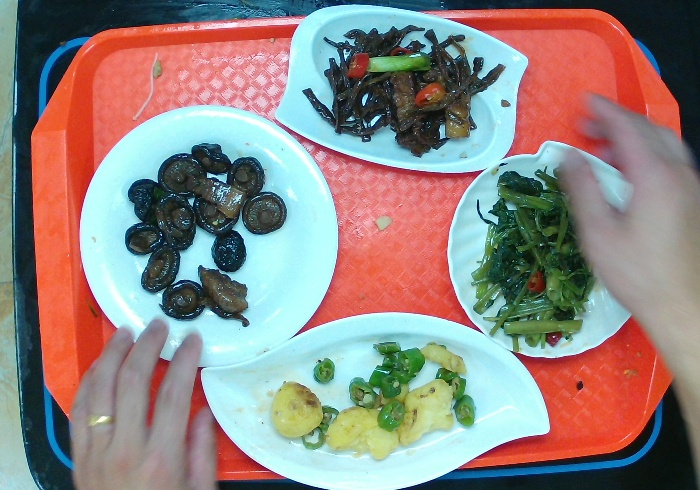RJxy-Bei_Ke_Wan: (448, 137, 646, 360)
RJxy-Jian_Jiao_Fang_Die: (270, 1, 532, 178)
RJxy-Jian_Jiao_Pan: (196, 310, 554, 490)
RJxy-Yuan_Pan: (77, 101, 340, 365)
